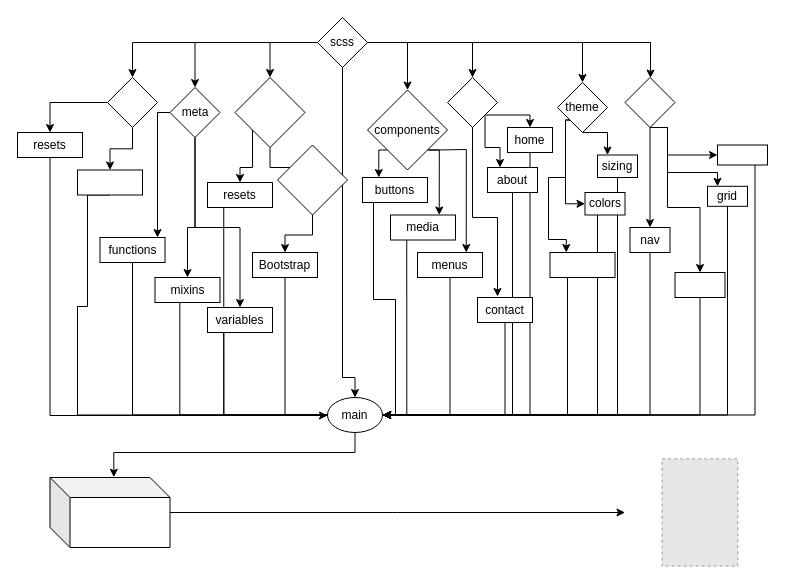
Image size: 785x584. Some labels were removed from this diagram. Grey dashed boxes stand in for pictures. Each missing label, with the box of its shape:
compiler: (49, 476, 170, 548)
config: (106, 76, 158, 128)
footer: (674, 272, 725, 298)
header: (716, 144, 768, 165)
imported: (234, 76, 305, 148)
layout: (624, 76, 675, 128)
pages: (446, 76, 498, 128)
shame: (76, 169, 142, 195)
typography: (549, 252, 615, 278)
vendors: (276, 144, 348, 215)
